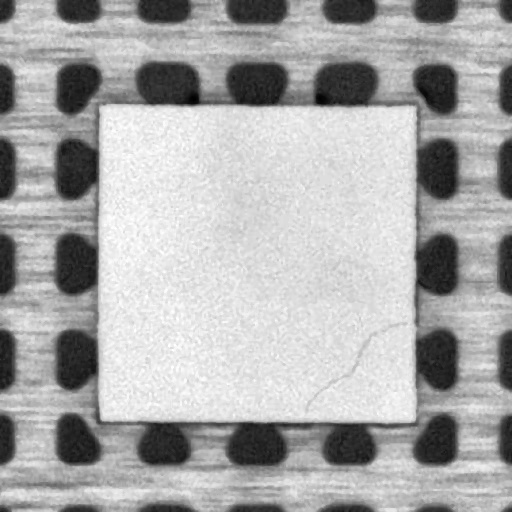DIE_CRACK: (302, 319, 409, 415)
